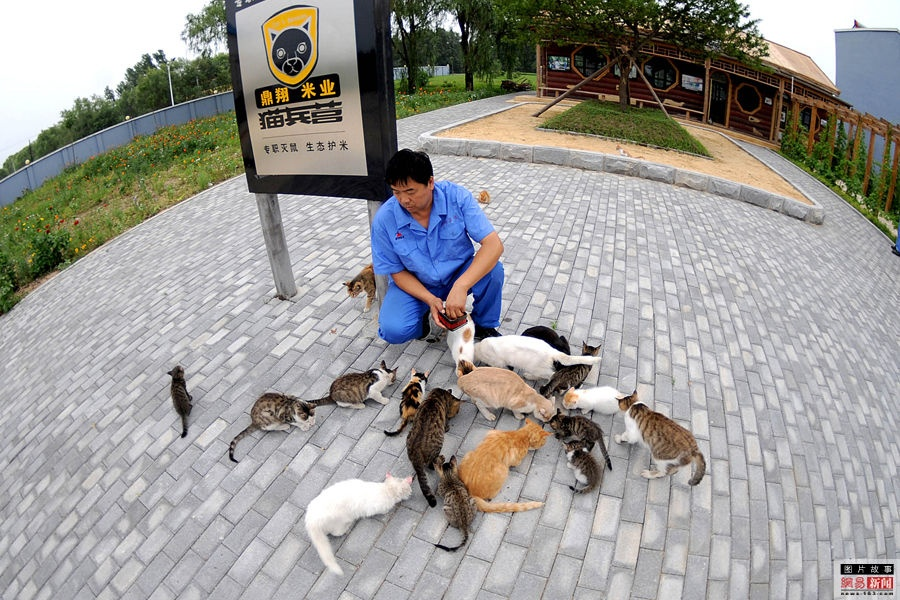cat: (304, 473, 412, 575), (459, 419, 553, 513), (616, 390, 707, 485), (405, 387, 467, 507), (229, 393, 318, 464), (475, 333, 601, 382), (456, 365, 556, 422), (305, 358, 399, 412), (433, 452, 473, 552), (539, 341, 603, 398), (553, 413, 613, 471), (384, 368, 433, 437), (561, 437, 604, 494), (564, 385, 638, 416), (166, 366, 195, 440), (343, 262, 376, 313), (446, 313, 475, 367)
